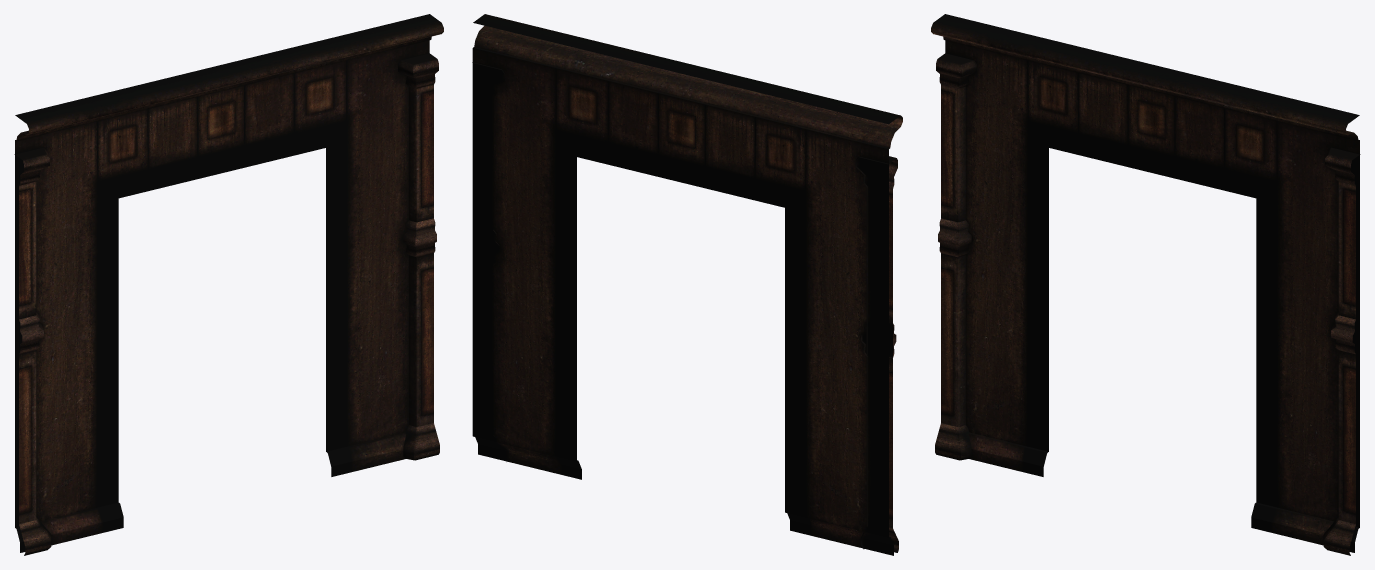
Rendered from door_way02.dae.
3 renders of one model, left to right at view 1: azimuth 30°, elevation 25°; view 2: azimuth 150°, elevation 25°; view 3: azimuth 330°, elevation 25°, orthographic.
Visible parts, largest first — view 1: door_way02; view 2: door_way02; view 3: door_way02.
Part boxes in pixels (left/top/right/bottom): door_way02: left=14, top=14, right=443, bottom=555; door_way02: left=472, top=14, right=902, bottom=555; door_way02: left=931, top=14, right=1360, bottom=555.
Size of the model in its own units: 4 by 4 by 0.2475.
